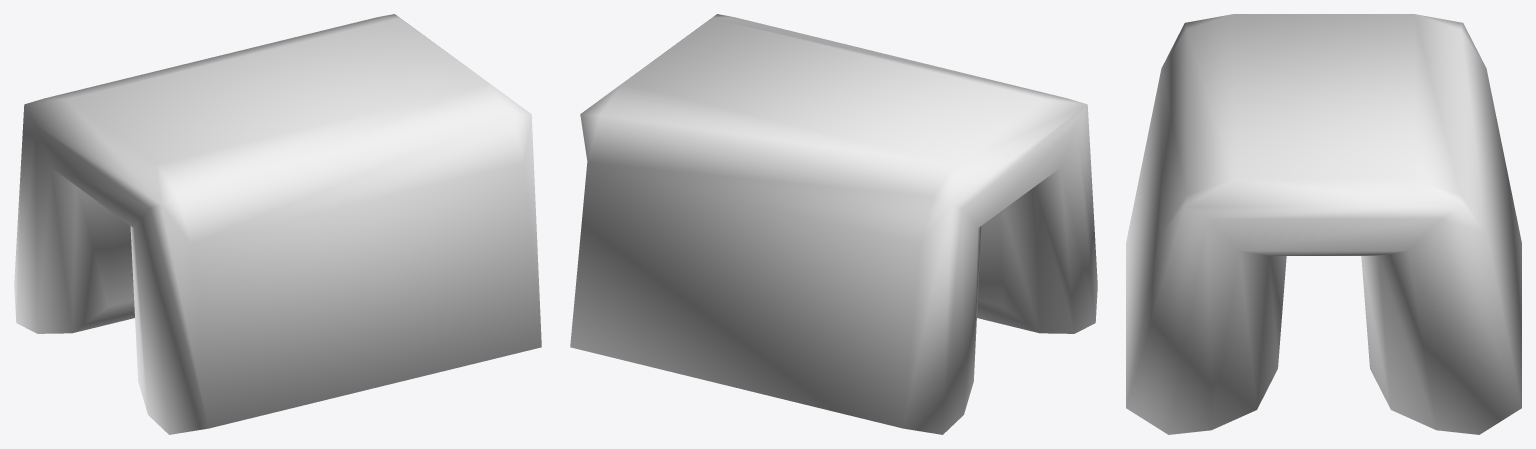
Rendered from Weighing clothes 2.fbx.
3 renders of one model, left to right at view 1: azimuth 30°, elevation 25°; view 2: azimuth 150°, elevation 25°; view 3: azimuth 270°, elevation 25°, orthographic.
Parts seen in each view (by area): view 1: Weighing clothes 2; view 2: Weighing clothes 2; view 3: Weighing clothes 2.
Part boxes in pixels (x1,y1,x2,y2): Weighing clothes 2: [14, 14, 541, 434]; Weighing clothes 2: [570, 14, 1097, 434]; Weighing clothes 2: [1126, 14, 1521, 434].
Bounding box in the file's own units: 67.43 × 42.15 × 61.36.
